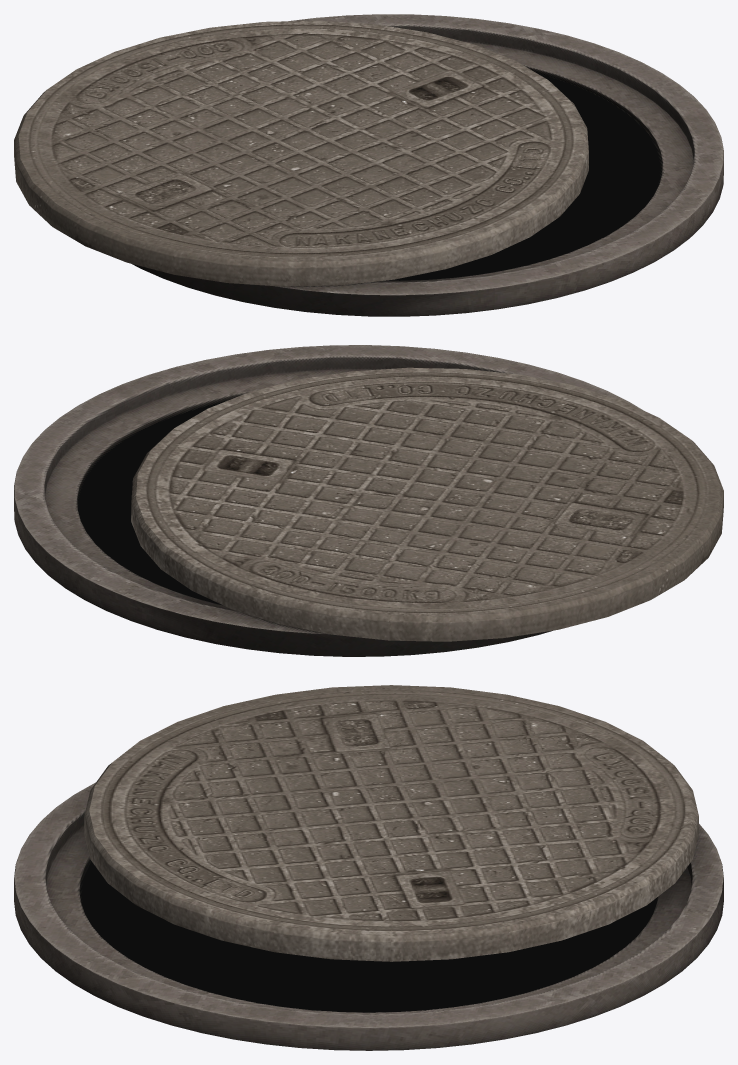
The model's file is Manhole_cover_open.FBX.
The picture shows the model from 3 angles, top to bottom: view 1: azimuth 30°, elevation 25°; view 2: azimuth 150°, elevation 25°; view 3: azimuth 270°, elevation 25°; orthographic projection. The views are drawn at different scales.
Parts seen in each view (by area): view 1: 井盖开; view 2: 井盖开; view 3: 井盖开.
Boxes of the visible parts, left/top/right/bottom form: 井盖开: left=14, top=14, right=723, bottom=316; 井盖开: left=14, top=345, right=723, bottom=656; 井盖开: left=14, top=685, right=723, bottom=1050.
Size of the model in its own units: 1.1 by 0.0823 by 1.03.
Materials: 1 (1 with a texture image).
